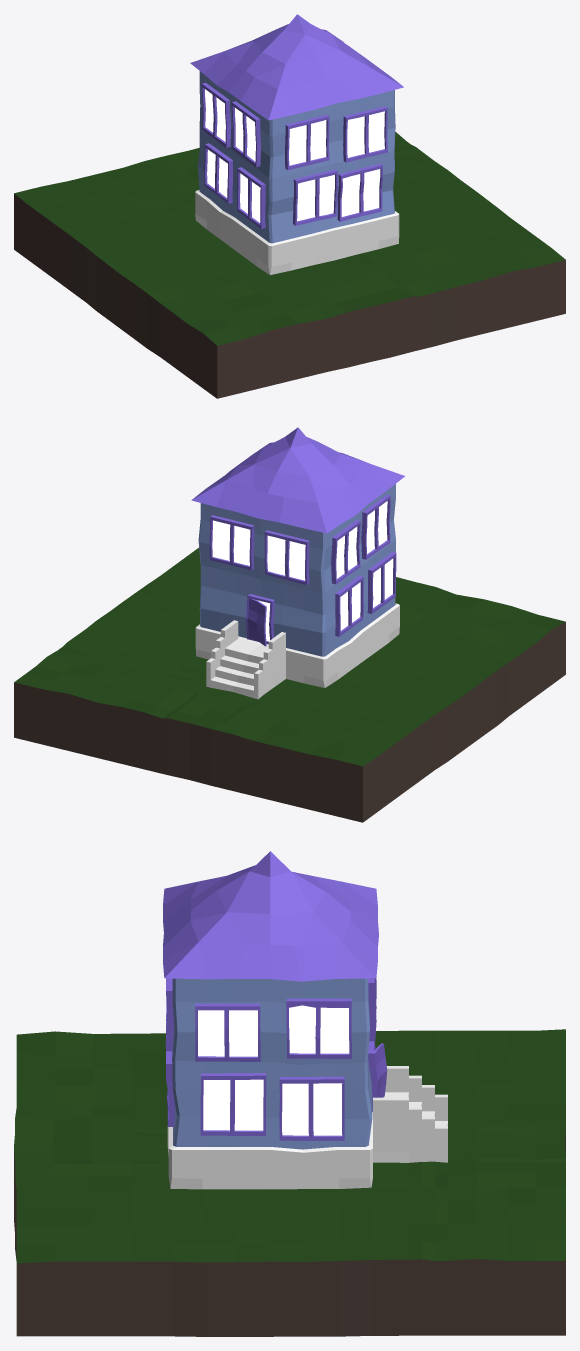
Rendered from house2.glb.
The picture shows the model from 3 angles, top to bottom: view 1: azimuth 30°, elevation 25°; view 2: azimuth 150°, elevation 25°; view 3: azimuth 270°, elevation 25°; orthographic projection. The views are drawn at different scales.
Parts seen in each view (by area): view 1: house; view 2: house; view 3: house.
Boxes of the visible parts, x1,y1,x2,y2 form: house: (14,14,565,398); house: (14,427,565,822); house: (14,851,565,1336).
Bounding box in the file's own units: 16.81 × 12.52 × 16.93.
